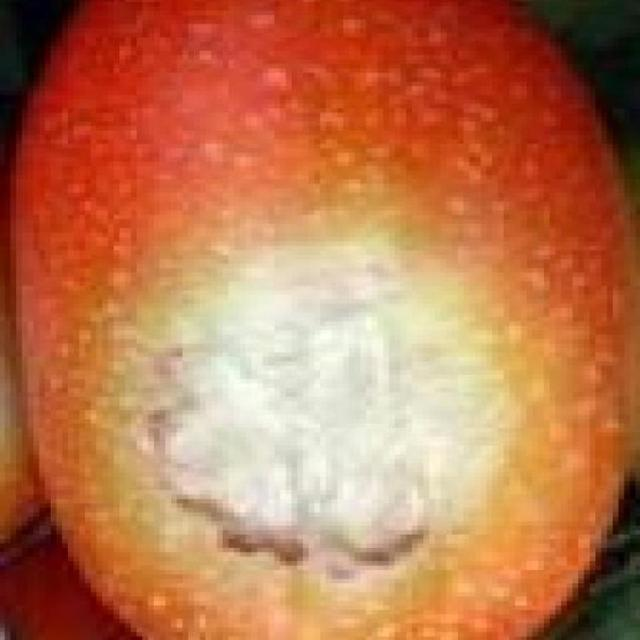Sunscald Fruit: (80, 146, 344, 395)
